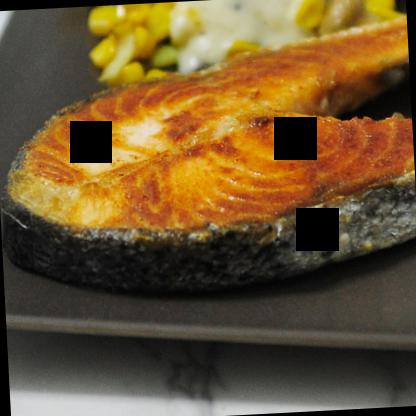salmon: (0, 13, 415, 305)
